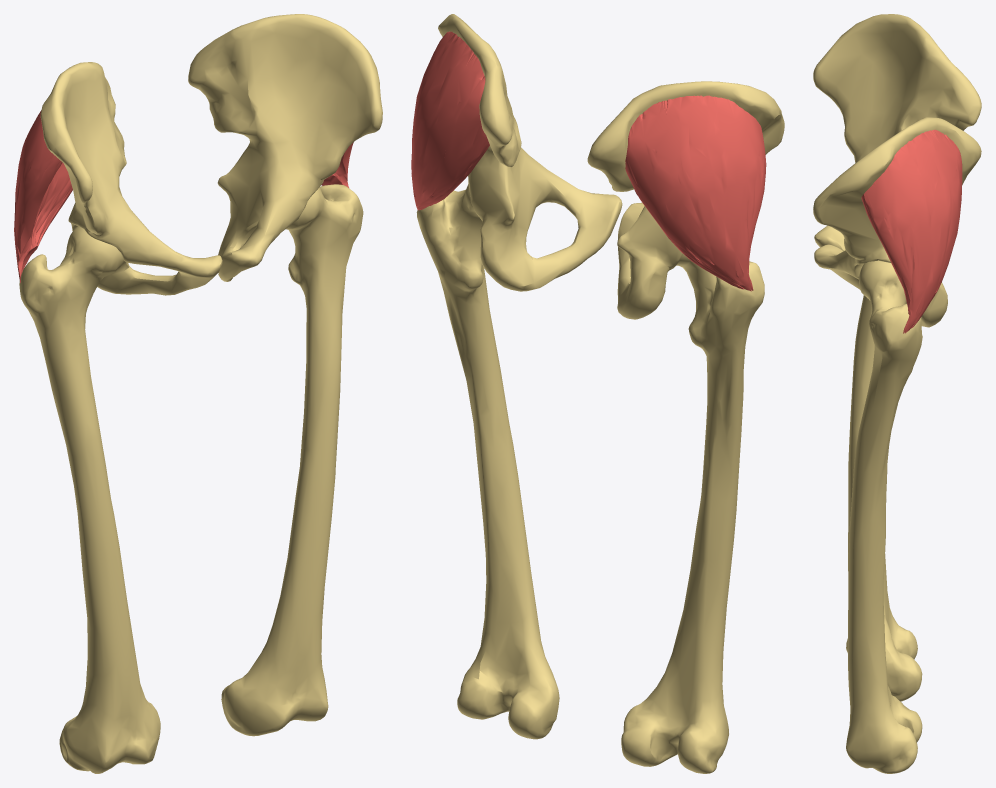
Rendered from hip-pelvis.glb.
The picture shows the model from 3 angles, left to right: view 1: azimuth 30°, elevation 25°; view 2: azimuth 150°, elevation 25°; view 3: azimuth 270°, elevation 25°; orthographic projection. The views are drawn at different scales.
Parts seen in each view (by area): view 1: hip-pelvis:hip-bone:isa:FJ3288, hip-pelvis:femur:isa:FJ3365, hip-pelvis:femur:isa:FJ3259, hip-pelvis:hip-bone:isa:FJ3152, hip-pelvis:gluteus-medius:isa:FJ1419; view 2: hip-pelvis:femur:isa:FJ3259, hip-pelvis:femur:isa:FJ3365, hip-pelvis:gluteus-medius:isa:FJ1419, hip-pelvis:hip-bone:isa:FJ3288, hip-pelvis:hip-bone:isa:FJ3152, hip-pelvis:gluteus-medius:isa:FJ1419M; view 3: hip-pelvis:femur:isa:FJ3259, hip-pelvis:hip-bone:isa:FJ3152, hip-pelvis:gluteus-medius:isa:FJ1419M, hip-pelvis:hip-bone:isa:FJ3288, hip-pelvis:femur:isa:FJ3365.
Boxes of the visible parts, <box> form: hip-pelvis:hip-bone:isa:FJ3288: <box>188,14,382,281</box>; hip-pelvis:femur:isa:FJ3365: <box>19,226,160,773</box>; hip-pelvis:femur:isa:FJ3259: <box>221,184,363,736</box>; hip-pelvis:hip-bone:isa:FJ3152: <box>40,62,222,295</box>; hip-pelvis:gluteus-medius:isa:FJ1419: <box>14,110,72,283</box>; hip-pelvis:femur:isa:FJ3259: <box>416,184,559,739</box>; hip-pelvis:femur:isa:FJ3365: <box>621,254,764,773</box>; hip-pelvis:gluteus-medius:isa:FJ1419: <box>625,95,766,291</box>; hip-pelvis:hip-bone:isa:FJ3288: <box>438,14,622,291</box>; hip-pelvis:hip-bone:isa:FJ3152: <box>587,81,784,319</box>; hip-pelvis:gluteus-medius:isa:FJ1419M: <box>411,31,489,210</box>; hip-pelvis:femur:isa:FJ3259: <box>846,260,922,773</box>; hip-pelvis:hip-bone:isa:FJ3152: <box>813,14,981,250</box>; hip-pelvis:gluteus-medius:isa:FJ1419M: <box>861,129,962,333</box>; hip-pelvis:hip-bone:isa:FJ3288: <box>813,117,981,327</box>; hip-pelvis:femur:isa:FJ3365: <box>846,295,922,701</box>.
Bounding box in the file's own units: 0.3004 × 0.59 × 0.138.
